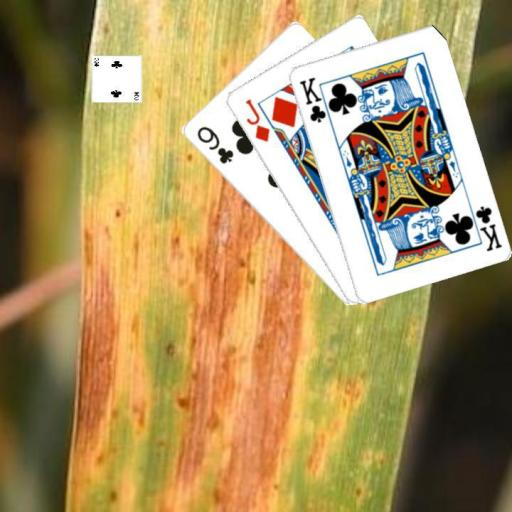9C: (193, 123, 235, 166)
JD: (242, 95, 271, 144)
KC: (464, 201, 503, 253), (296, 74, 333, 125)
